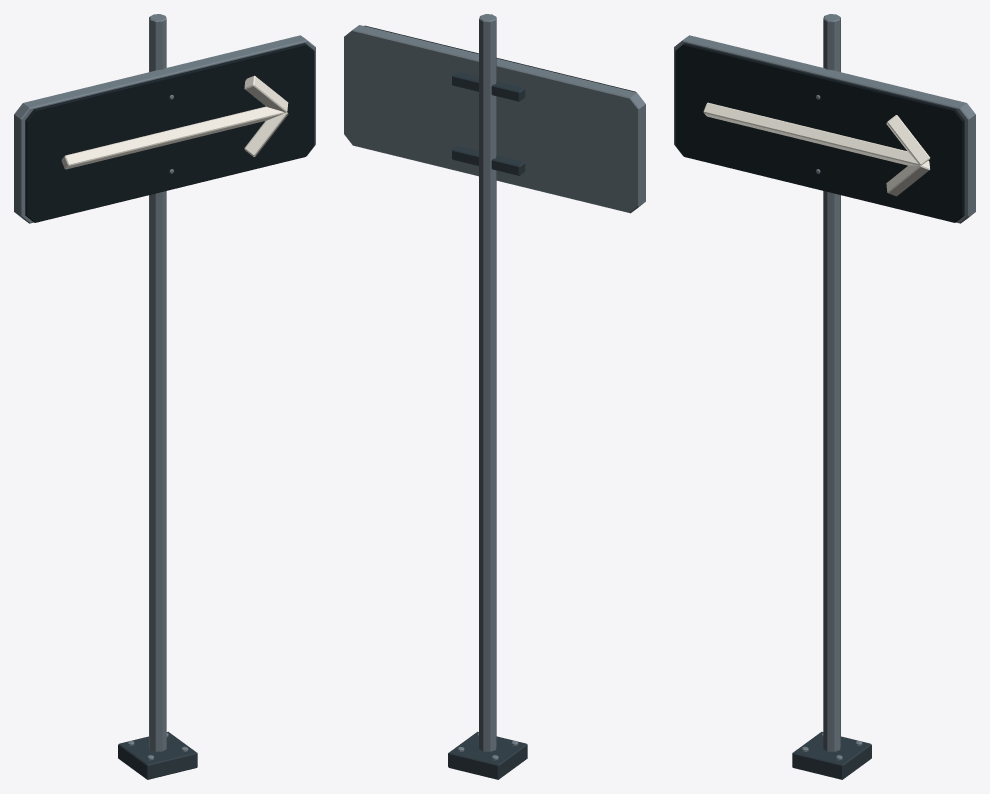
Rendered from b02_one_way_arrow.glb.
3 views of the same model, side by side, from view 1: azimuth 30°, elevation 25°; view 2: azimuth 150°, elevation 25°; view 3: azimuth 330°, elevation 25° (orthographic).
Visible parts, largest first — view 1: b02_one_way_arrow; view 2: b02_one_way_arrow; view 3: b02_one_way_arrow.
Part boxes in pixels (<box>): b02_one_way_arrow: <box>14,14,315,779</box>; b02_one_way_arrow: <box>344,14,645,779</box>; b02_one_way_arrow: <box>674,14,975,779</box>.
Bounding box in the file's own units: 1.04 × 2.51 × 0.2137.
